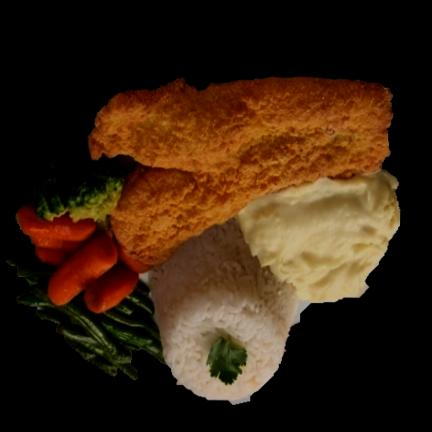broccoli: (32, 139, 124, 221)
carrot: (17, 204, 149, 312)
chicken: (88, 75, 393, 264)
green_beans: (7, 255, 165, 379)
potato: (236, 170, 400, 302)
rice: (150, 219, 298, 399)
